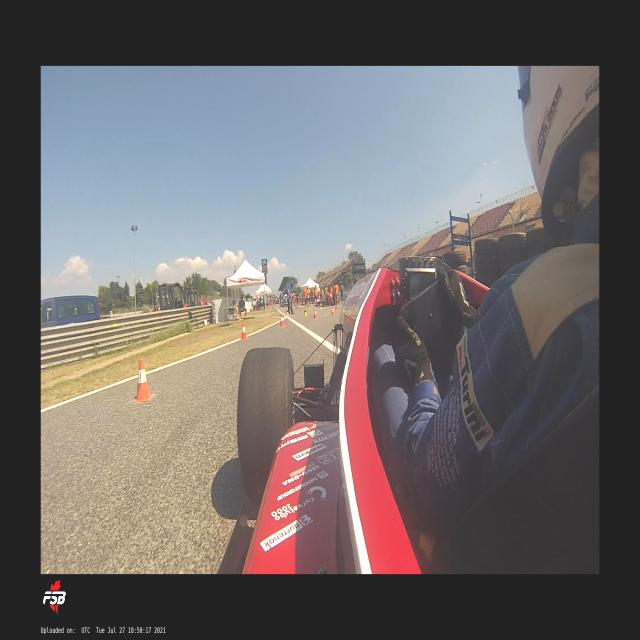orange_cone: (132, 359, 154, 403), (240, 324, 248, 342), (279, 314, 285, 328), (314, 308, 318, 319), (331, 306, 335, 316)
yellow_cone: (304, 307, 308, 317), (286, 308, 289, 316), (319, 306, 322, 310)
